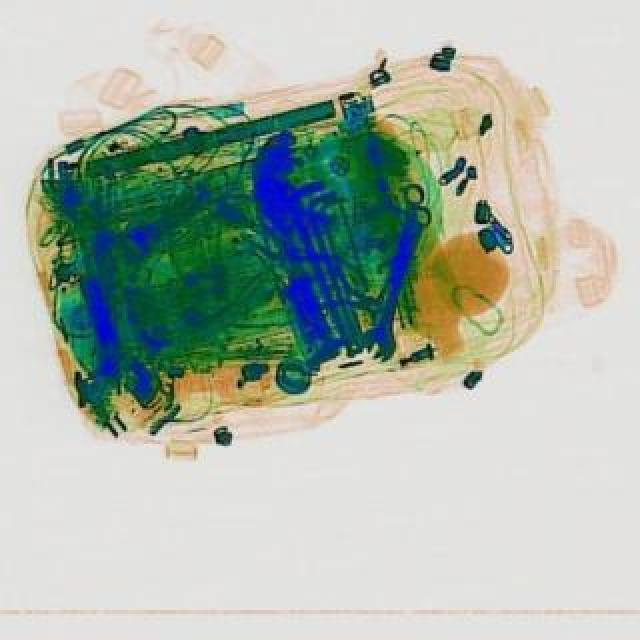scissors: (358, 184, 442, 364), (358, 210, 446, 368)
